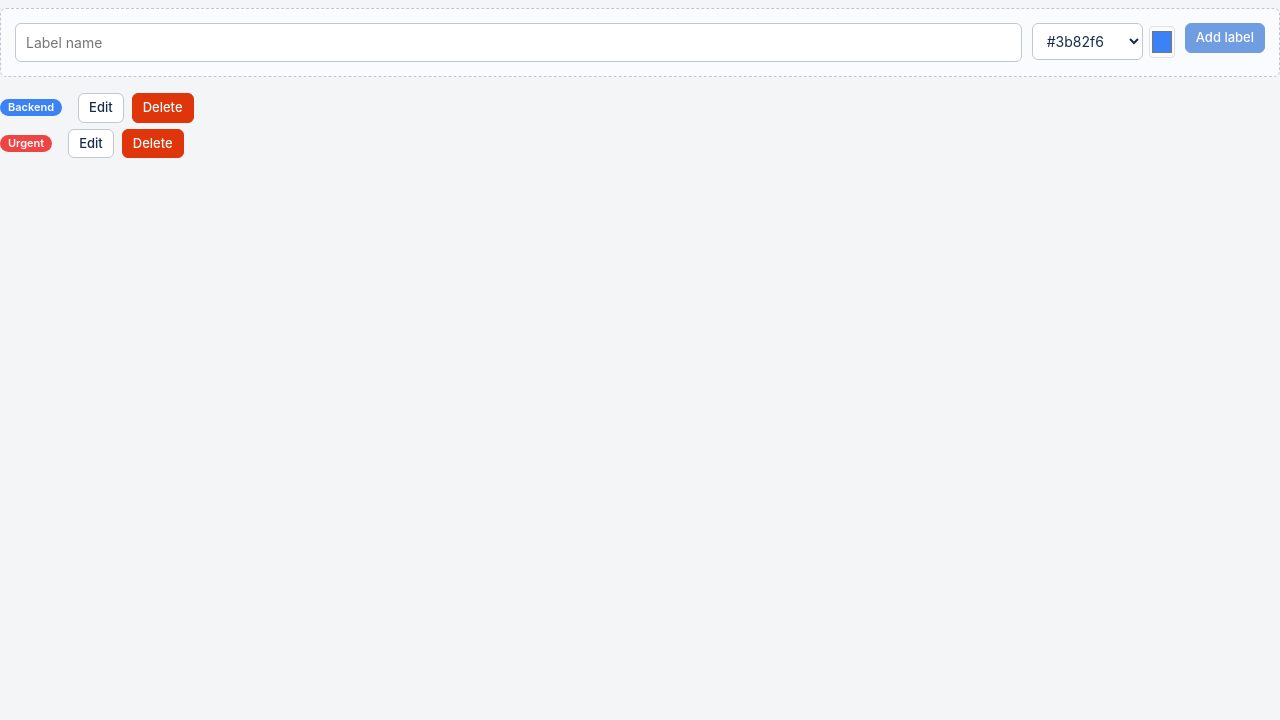
Test: LabelsManager — duplicate name 409 (acceptance) › surfaces the mapped duplicate_label_name message as a toast on create
The image size is (1280, 720).
Check: the text "Backend" is shown, box [0,99,62,116]
Type "Backend" into the field named "New label name" at (518, 42), box [15,23,1022,62]
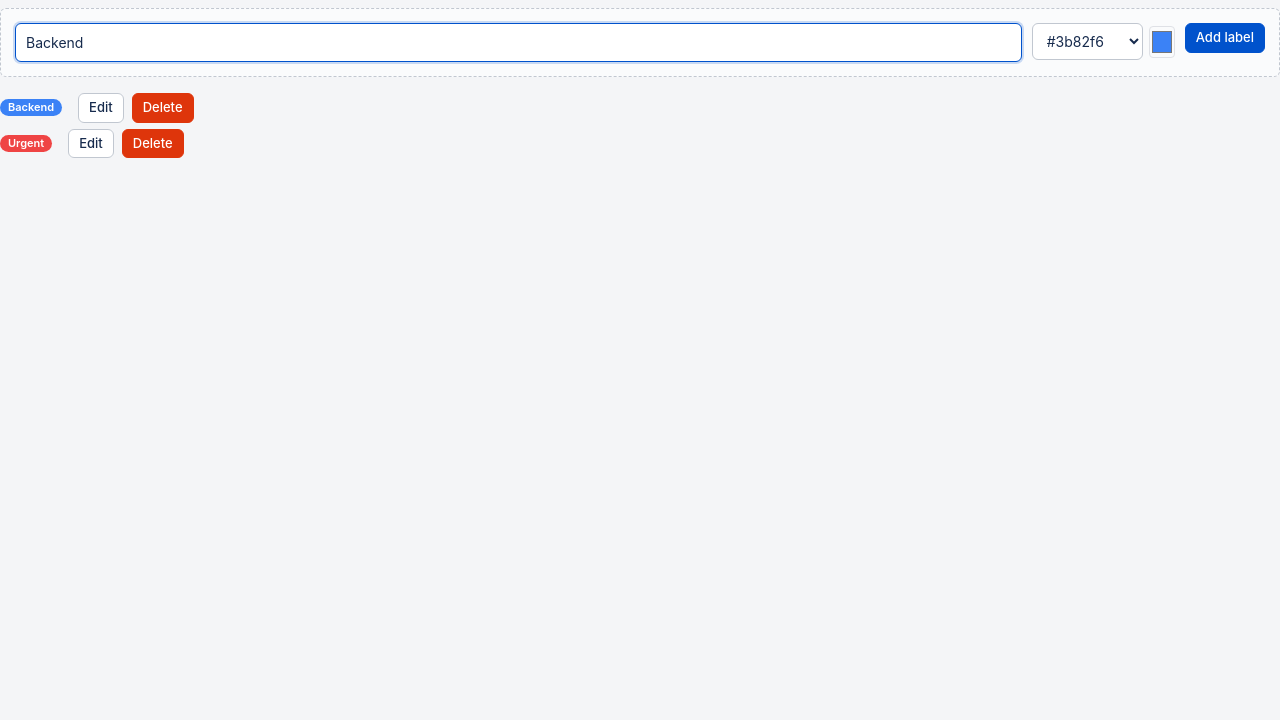
Click the button "Add label" at (1225, 38), box [1185,23,1265,52]
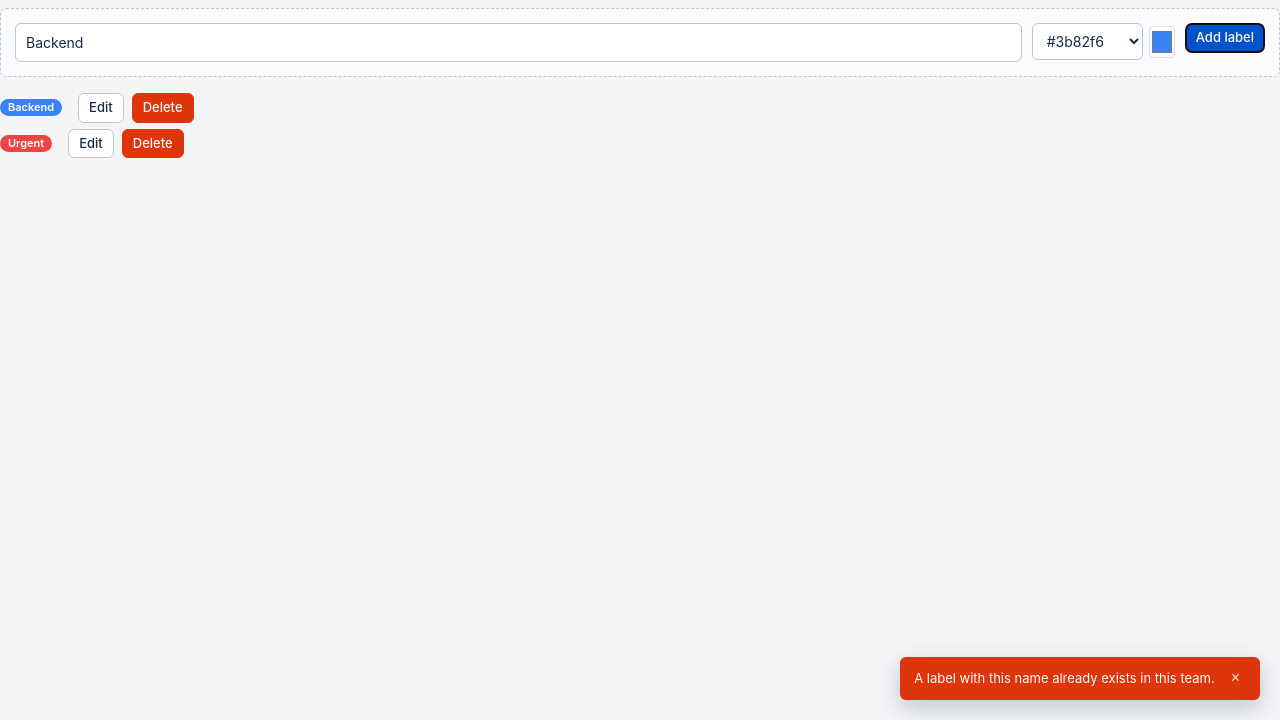
Check: the message shows "A label with this name already exists in this team.", box [914,670,1215,686]
